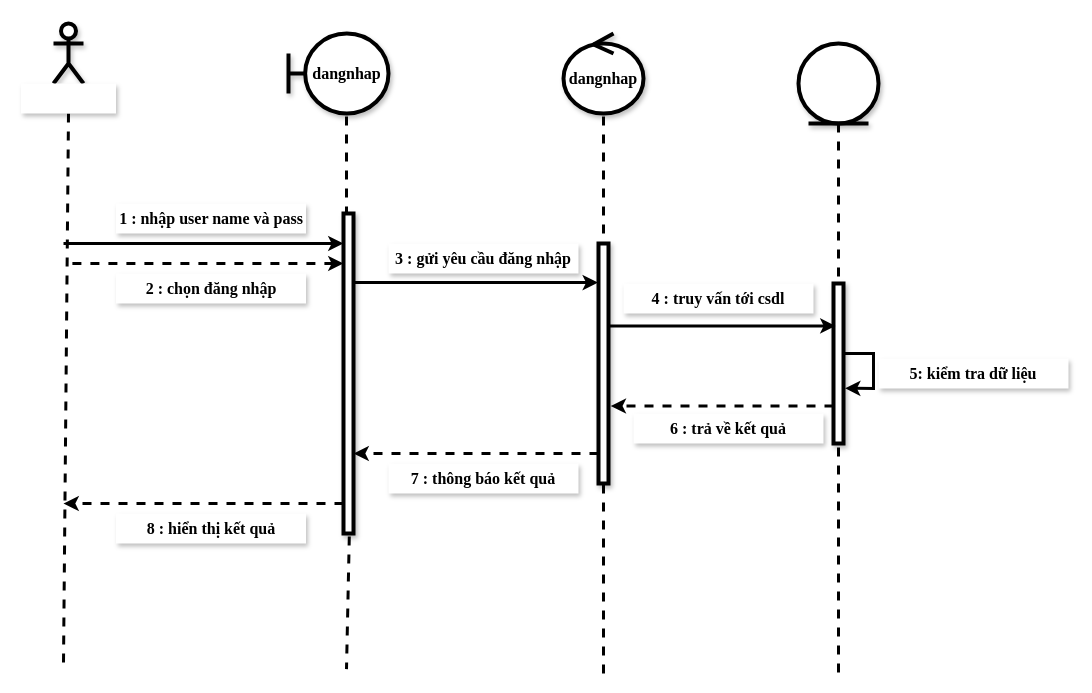
Image size: 1092x693. Some labels were removed from this diagram. Each missing label, with the centre of its shape:
"Actor" belongs at [69,54].
"csdl" belongs at [839,84].
"khachhang" belongs at [69,99].
